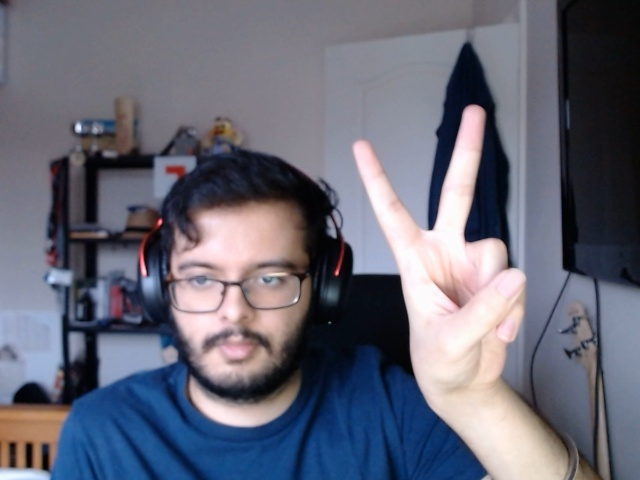Peace: (347, 94, 544, 420)
